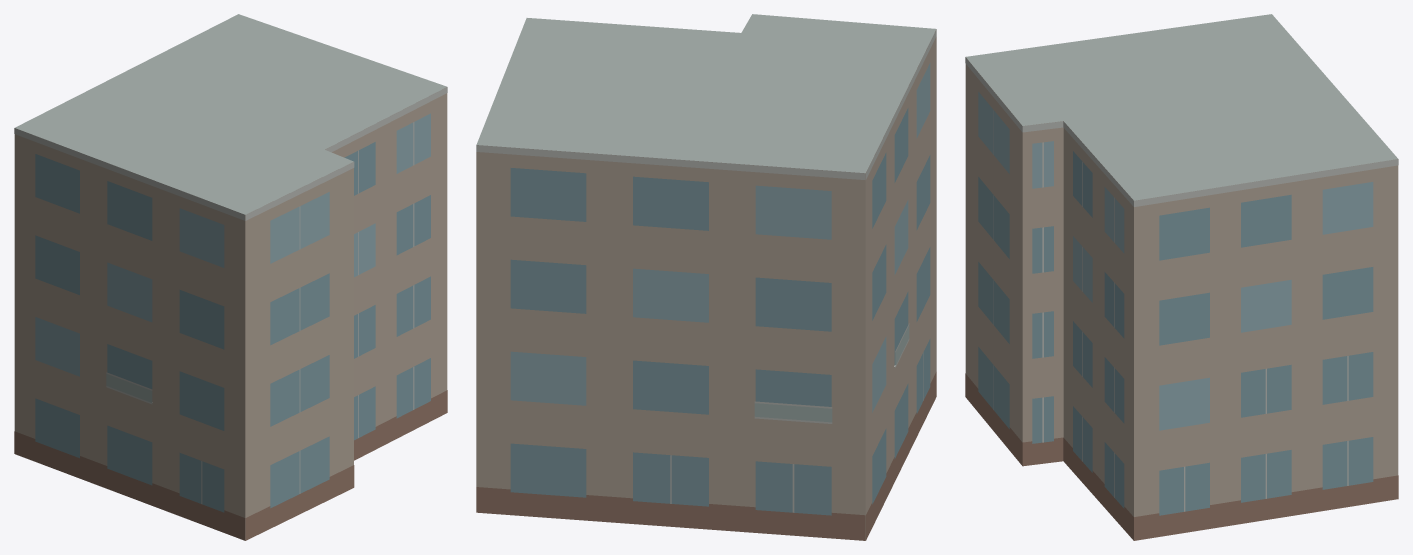
Rendered from survey-upis-33012770.glb.
3 views of the same model, side by side, from view 1: azimuth 30°, elevation 25°; view 2: azimuth 150°, elevation 25°; view 3: azimuth 270°, elevation 25° (orthographic). The views are drawn at different scales.
Visible parts, largest first — view 1: survey-upis-33012770.tmp; view 2: survey-upis-33012770.tmp; view 3: survey-upis-33012770.tmp.
Boxes of the visible parts, bbox=[...] form: survey-upis-33012770.tmp: bbox=[14, 14, 447, 540]; survey-upis-33012770.tmp: bbox=[476, 14, 936, 540]; survey-upis-33012770.tmp: bbox=[965, 14, 1398, 540].
Size of the model in its own units: 15.2 by 12.9 by 14.89.
